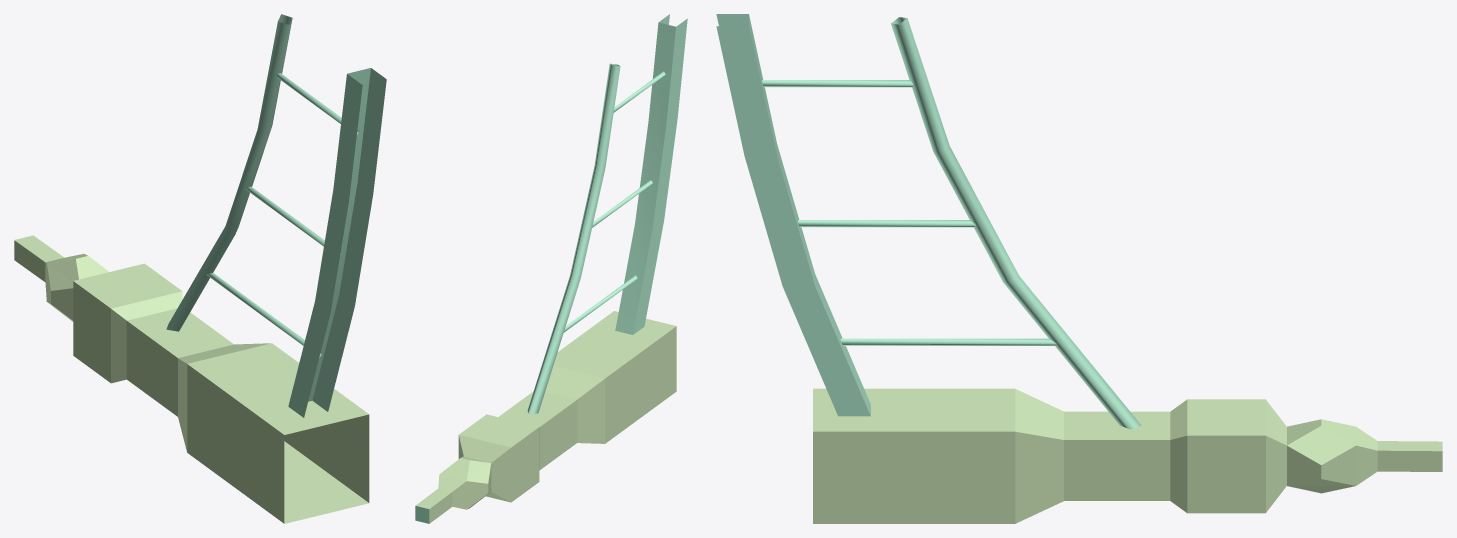
3 renders of one model, left to right at view 1: azimuth 30°, elevation 25°; view 2: azimuth 150°, elevation 25°; view 3: azimuth 270°, elevation 25°, orthographic. The views are drawn at different scales.
Visible parts, largest first — view 1: Object13; view 2: Object13; view 3: Object13.
Part boxes in pixels (left/top/right/bottom): Object13: left=14, top=14, right=386, bottom=523; Object13: left=415, top=14, right=687, bottom=523; Object13: left=716, top=14, right=1442, bottom=523.
Bounding box in the file's own units: 7092 × 37225 × 50597.
